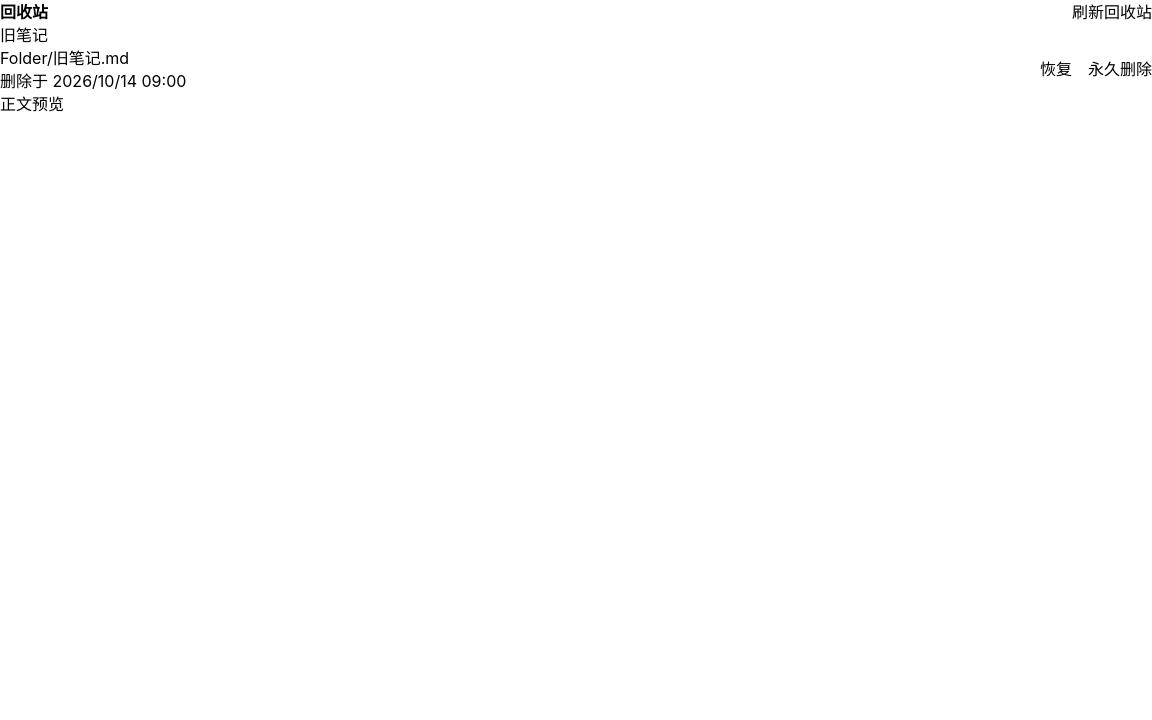
Test: requires explicit confirmation and cancel leaves the archive untouched
The width and height of the screenshot is (1152, 720).
Click the button with aria-label "永久删除笔记：旧笔记".
click(1112, 70)  # box top-left (1072, 58), bottom-right (1151, 81)
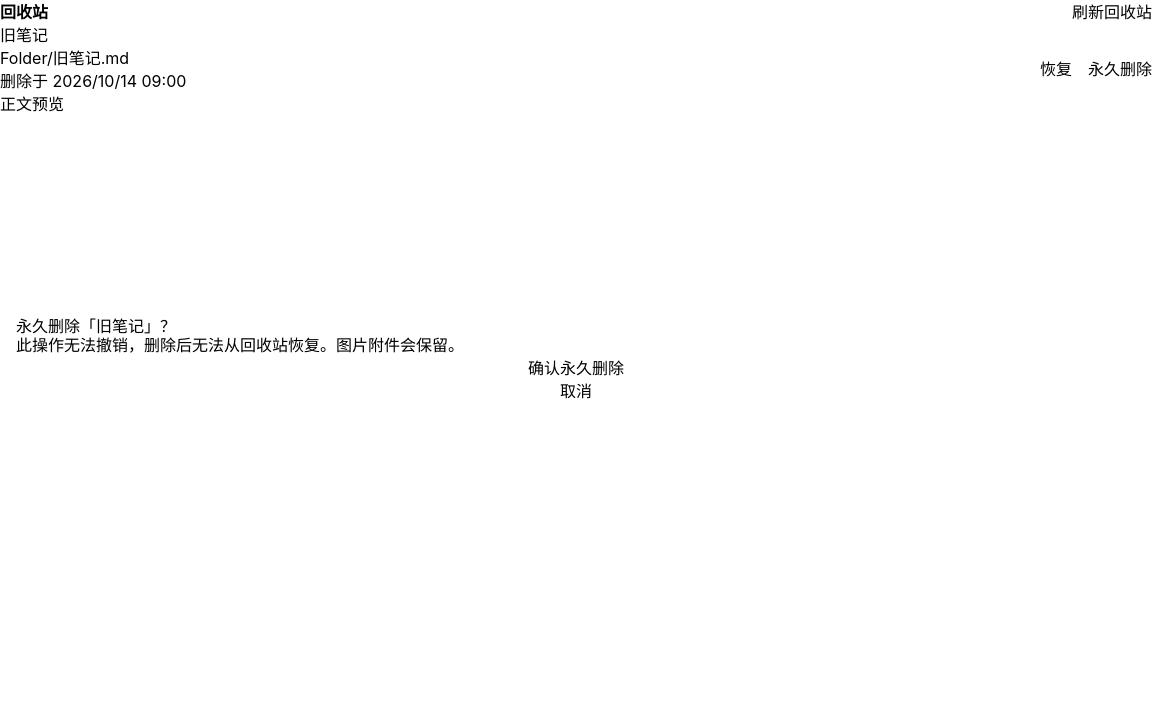
Result: the text "此操作无法撤销，删除后无法从回收站恢复。图片附件会保留。" is shown at top-left (16, 335), bottom-right (464, 355)
Click the button "取消".
click(576, 391)  # box top-left (16, 379), bottom-right (1136, 402)
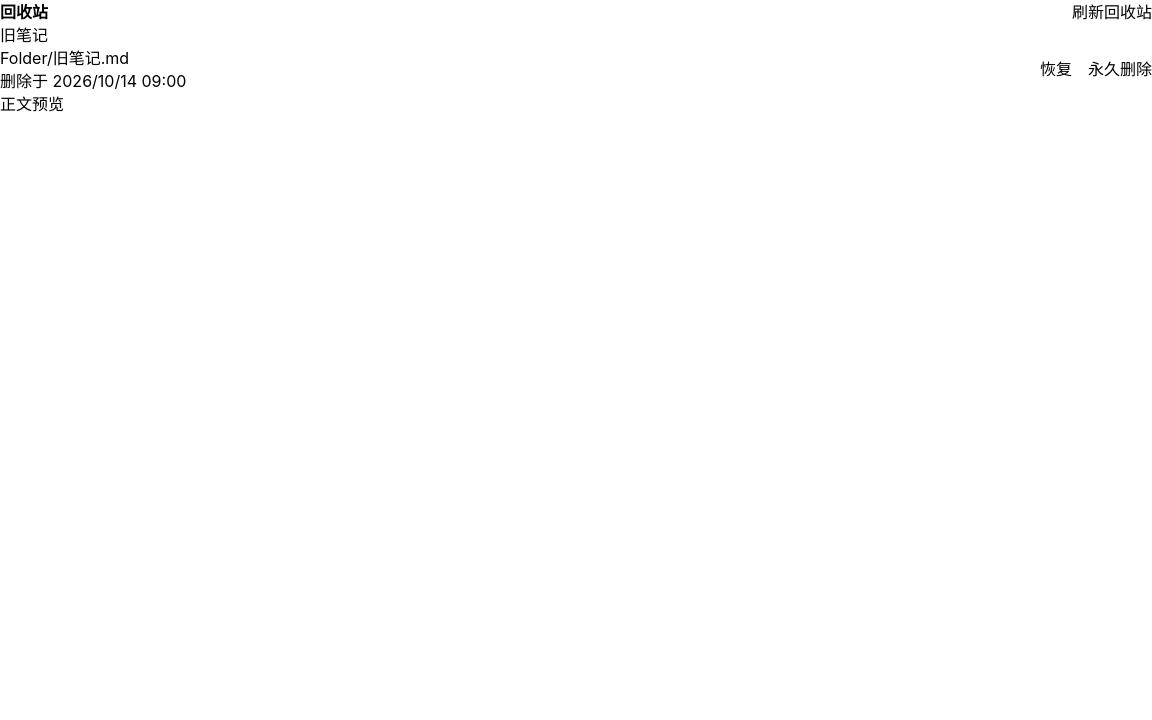
Expected: the text "正文预览" is shown, top-left (0, 94), bottom-right (64, 114)
Result: the dialog is gone
